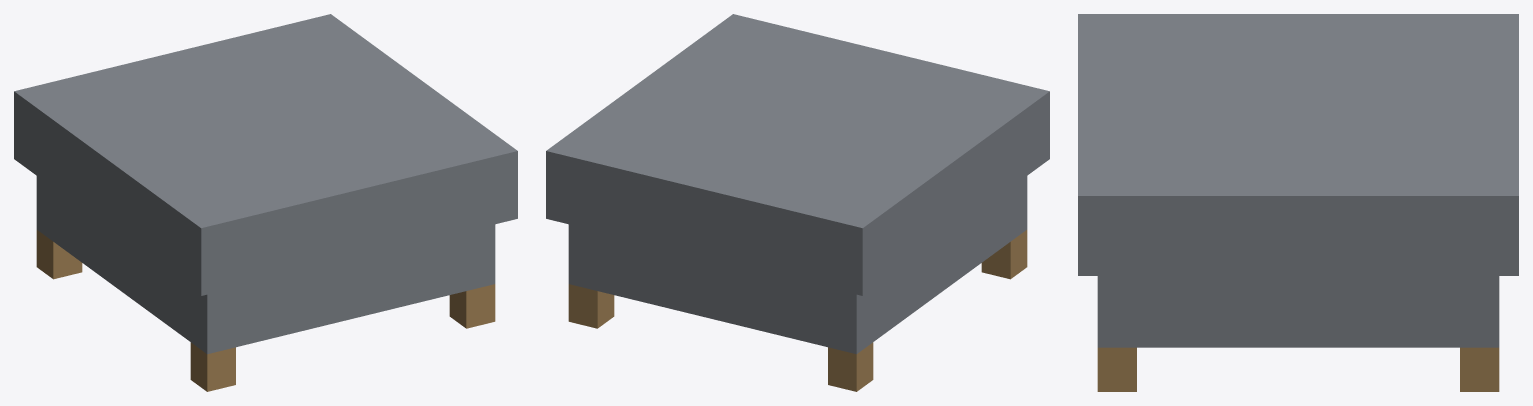
The model's file is footstool.glb.
3 views of the same model, side by side, from view 1: azimuth 30°, elevation 25°; view 2: azimuth 150°, elevation 25°; view 3: azimuth 270°, elevation 25° (orthographic). The views are drawn at different scales.
Visible parts, largest first — view 1: footstool; view 2: footstool; view 3: footstool.
Part boxes in pixels (box(x1,y1,x2,y2)): footstool: box(14, 14, 517, 391); footstool: box(546, 14, 1049, 391); footstool: box(1078, 14, 1518, 391).
Bounding box in the file's own units: 0.8797 × 0.46 × 0.9.
